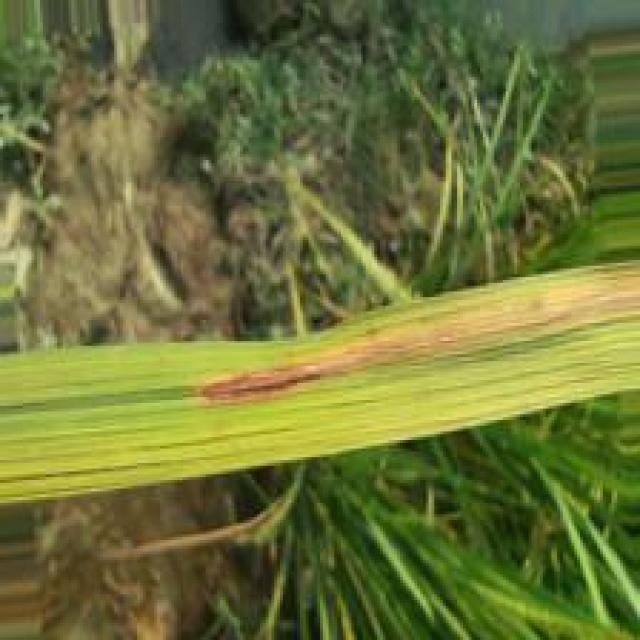Leaf_Blast: (199, 277, 640, 406)
